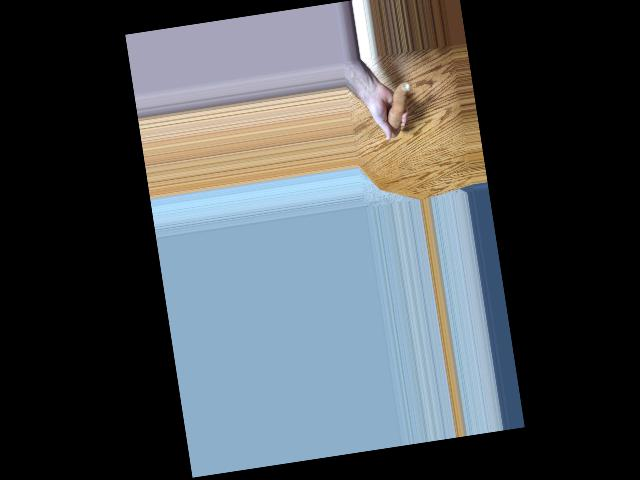sweet_potato: (379, 79, 415, 137)
